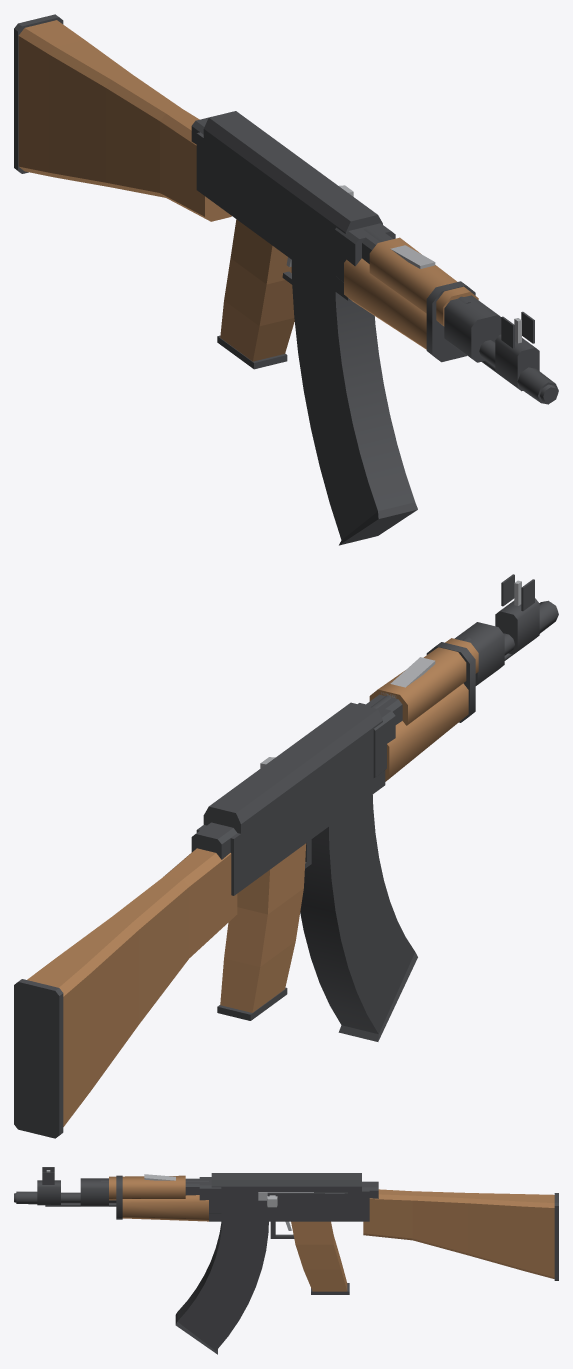
Rendered from ak47_lowpoly.glb.
3 views of the same model, one above another, from view 1: azimuth 30°, elevation 25°; view 2: azimuth 150°, elevation 25°; view 3: azimuth 270°, elevation 25° (orthographic). The views are drawn at different scales.
Parts seen in each view (by area): view 1: AK47_Body, AK47_Magazine; view 2: AK47_Body, AK47_Magazine; view 3: AK47_Body, AK47_Magazine.
Boxes of the visible parts, x1,y1,x2,y2 form: AK47_Body: [14, 14, 558, 404]; AK47_Magazine: [291, 259, 417, 545]; AK47_Body: [14, 574, 558, 1138]; AK47_Magazine: [300, 780, 417, 1041]; AK47_Body: [14, 1167, 558, 1294]; AK47_Magazine: [175, 1215, 268, 1354].
Size of the model in its own units: 0.0645 by 0.3214 by 0.883.
